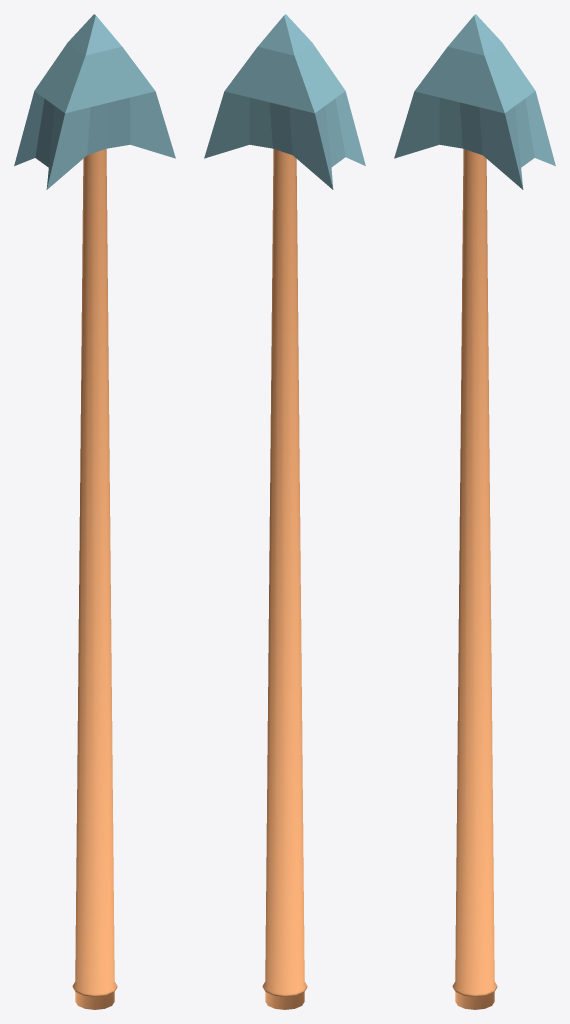
Rendered from arrow.fbx.
3 views of the same model, side by side, from view 1: azimuth 30°, elevation 25°; view 2: azimuth 150°, elevation 25°; view 3: azimuth 330°, elevation 25° (orthographic).
Visible parts, largest first — view 1: Arrow1; view 2: Arrow1; view 3: Arrow1.
Boxes of the visible parts, box(x1,y1,x2,y2) form: Arrow1: box(14, 14, 175, 1009); Arrow1: box(204, 14, 365, 1009); Arrow1: box(394, 14, 555, 1009).
Size of the model in its own units: 39.56 by 288 by 17.3.
